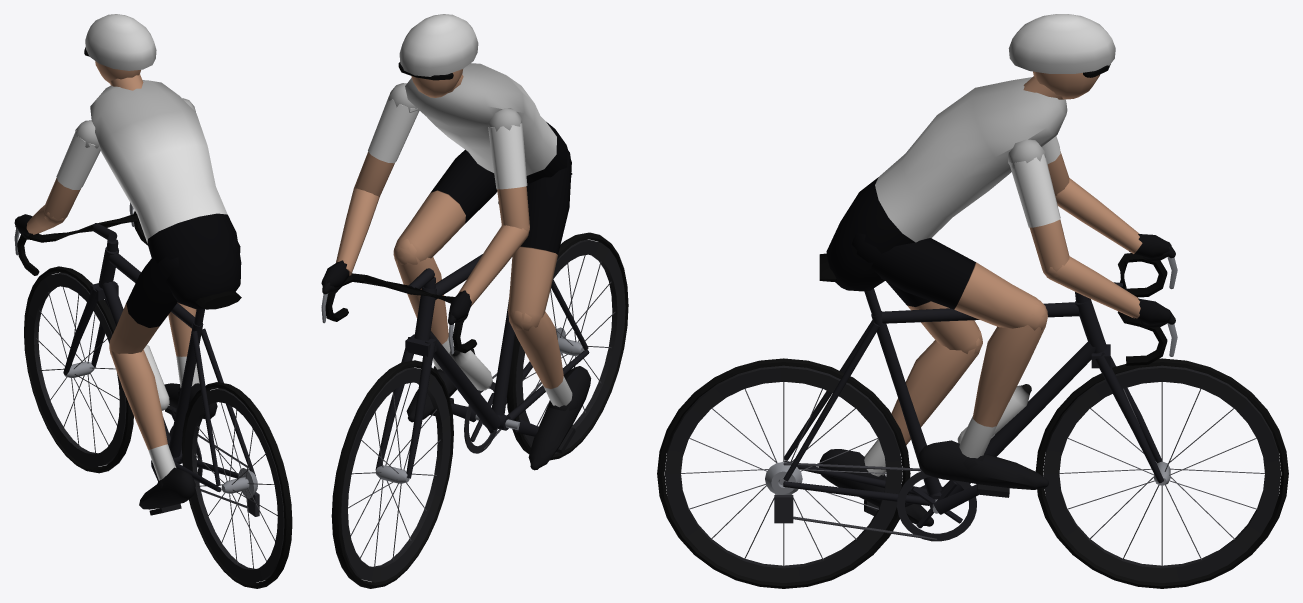
Rendered from rider.glb.
The picture shows the model from 3 angles, left to right: view 1: azimuth 30°, elevation 25°; view 2: azimuth 150°, elevation 25°; view 3: azimuth 270°, elevation 25°; orthographic projection. The views are drawn at different scales.
Parts seen in each view (by area): view 1: body, frame, wheel_r, wheel_f, thigh_l, shin_l, foot_l, shin_r, foot_r; view 2: body, frame, wheel_f, wheel_r, thigh_l, thigh_r, shin_l, foot_l, shin_r, crank, foot_r; view 3: body, frame, wheel_f, wheel_r, thigh_r, shin_r, shin_l, foot_r, crank, foot_l, thigh_l.
Part boxes in pixels (left/top/right/bottom): body: left=14, top=14, right=241, bottom=309; frame: left=14, top=202, right=259, bottom=516; wheel_r: left=182, top=382, right=292, bottom=588; wheel_f: left=24, top=266, right=133, bottom=473; thigh_l: left=109, top=256, right=179, bottom=355; shin_l: left=111, top=349, right=176, bottom=480; foot_l: left=139, top=467, right=195, bottom=515; shin_r: left=168, top=302, right=199, bottom=387; foot_r: left=164, top=383, right=217, bottom=419; body: left=321, top=14, right=571, bottom=320; frame: left=321, top=173, right=589, bottom=478; wheel_f: left=331, top=360, right=453, bottom=588; wheel_r: left=507, top=232, right=628, bottom=460; thigh_l: left=508, top=151, right=571, bottom=331; thigh_r: left=393, top=149, right=497, bottom=264; shin_l: left=509, top=311, right=572, bottom=407; foot_l: left=528, top=366, right=591, bottom=470; shin_r: left=394, top=239, right=450, bottom=370; crank: left=451, top=382, right=538, bottom=453; foot_r: left=406, top=343, right=475, bottom=422; body: left=826, top=14, right=1171, bottom=324; frame: left=765, top=243, right=1177, bottom=539; wheel_f: left=1035, top=358, right=1288, bottom=588; wheel_r: left=657, top=358, right=910, bottom=588; thigh_r: left=852, top=232, right=1047, bottom=330; shin_r: left=959, top=299, right=1047, bottom=458; shin_l: left=864, top=330, right=982, bottom=476; foot_r: left=918, top=440, right=1048, bottom=497; crank: left=897, top=471, right=978, bottom=541; foot_l: left=819, top=449, right=933, bottom=526; thigh_l: left=886, top=281, right=981, bottom=353.
Bounding box in the file's own units: 0.573 × 1.67 × 1.67.
